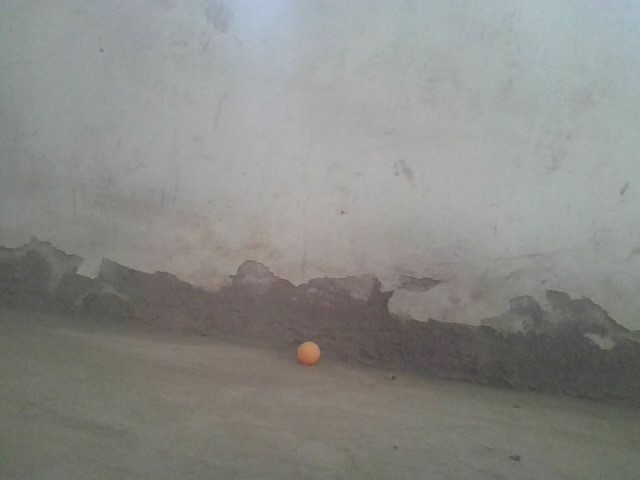ball: (297, 339, 322, 367)
